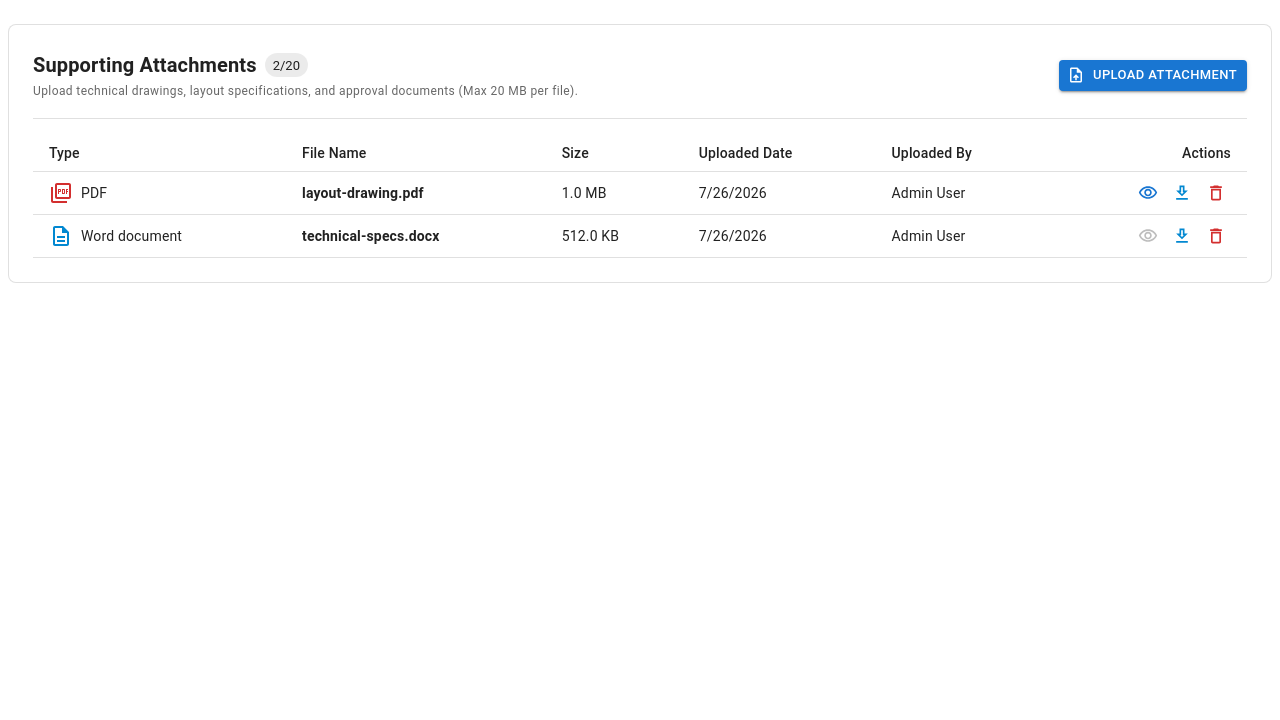
Scenario: Quotation Attachments Frontend Component › opens delete confirmation dialog when delete action is clicked
This screenshot has width=1280, height=720.
Expected: the text "layout-drawing.pdf" is shown, [302,185,424,201]
What coordinates should you click on to do the following:
click the button named "Delete layout-drawing.pdf"
I would click on:
 (1216, 193)
Its box is [1201,178,1231,208].
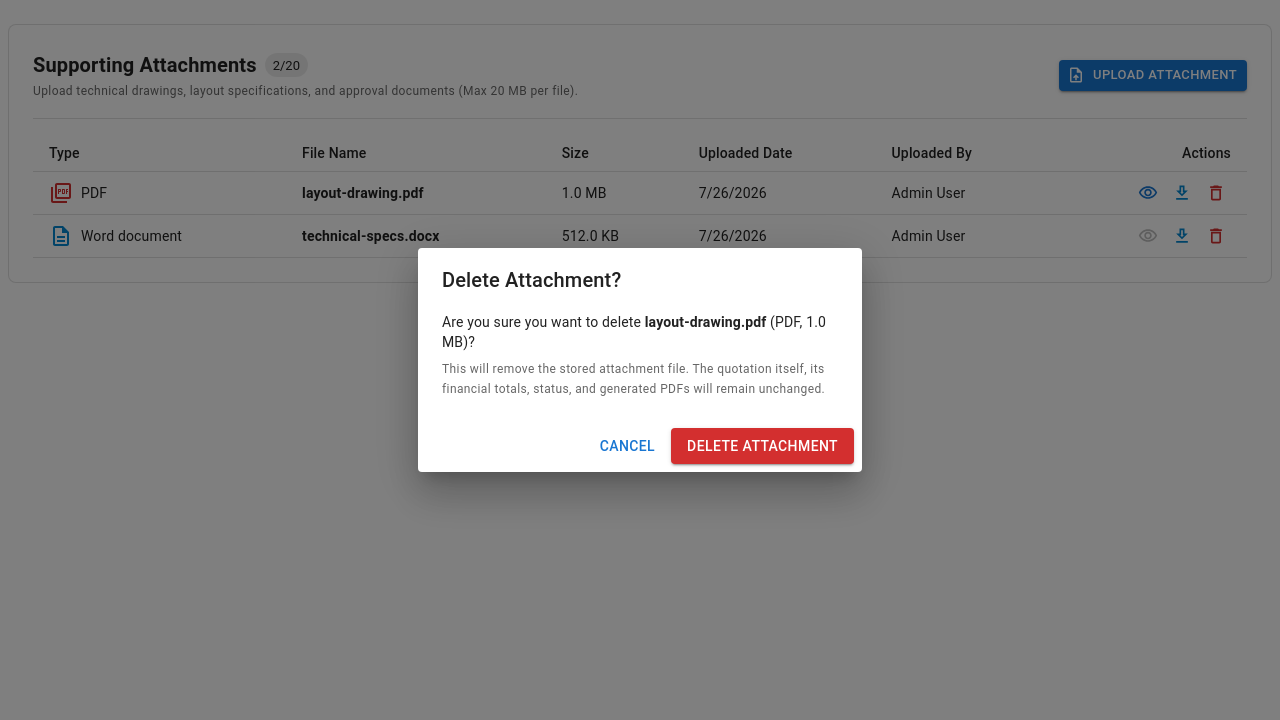
Now the text "Delete Attachment?" is shown, box [442,264,621,296]
Now the text "Are you sure you want to delete" is shown, box [442,314,645,330]
